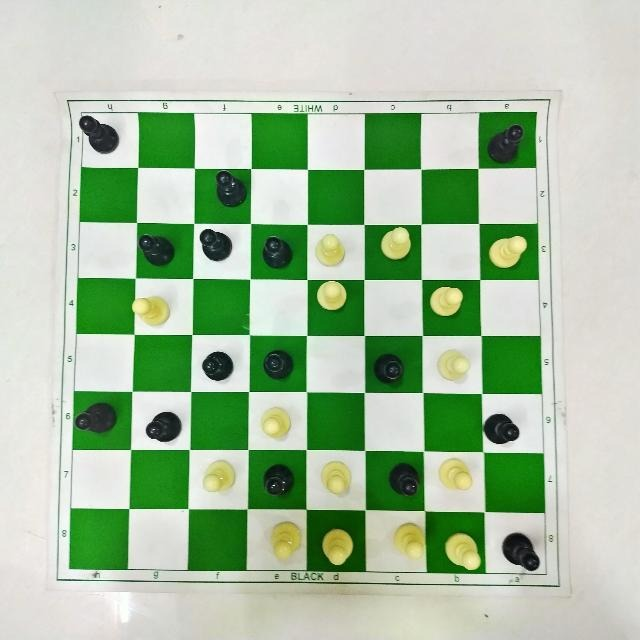black-pawn: (481, 119, 531, 167), (500, 529, 546, 578), (69, 393, 120, 435), (77, 111, 123, 156), (387, 458, 426, 506), (133, 228, 175, 272), (368, 348, 411, 388), (212, 167, 249, 211), (481, 411, 527, 445), (256, 232, 297, 268), (144, 406, 184, 442), (263, 459, 297, 501), (197, 227, 234, 265), (262, 349, 296, 381), (200, 350, 234, 381)
white-pawn: (443, 530, 484, 574), (269, 516, 305, 565), (425, 284, 466, 324), (487, 234, 531, 270), (322, 525, 358, 569), (393, 520, 427, 564), (436, 452, 471, 493), (437, 345, 473, 384), (131, 292, 171, 326), (321, 460, 354, 500), (379, 226, 413, 262), (314, 232, 348, 268), (314, 278, 348, 314), (203, 459, 237, 495), (259, 407, 294, 441)
